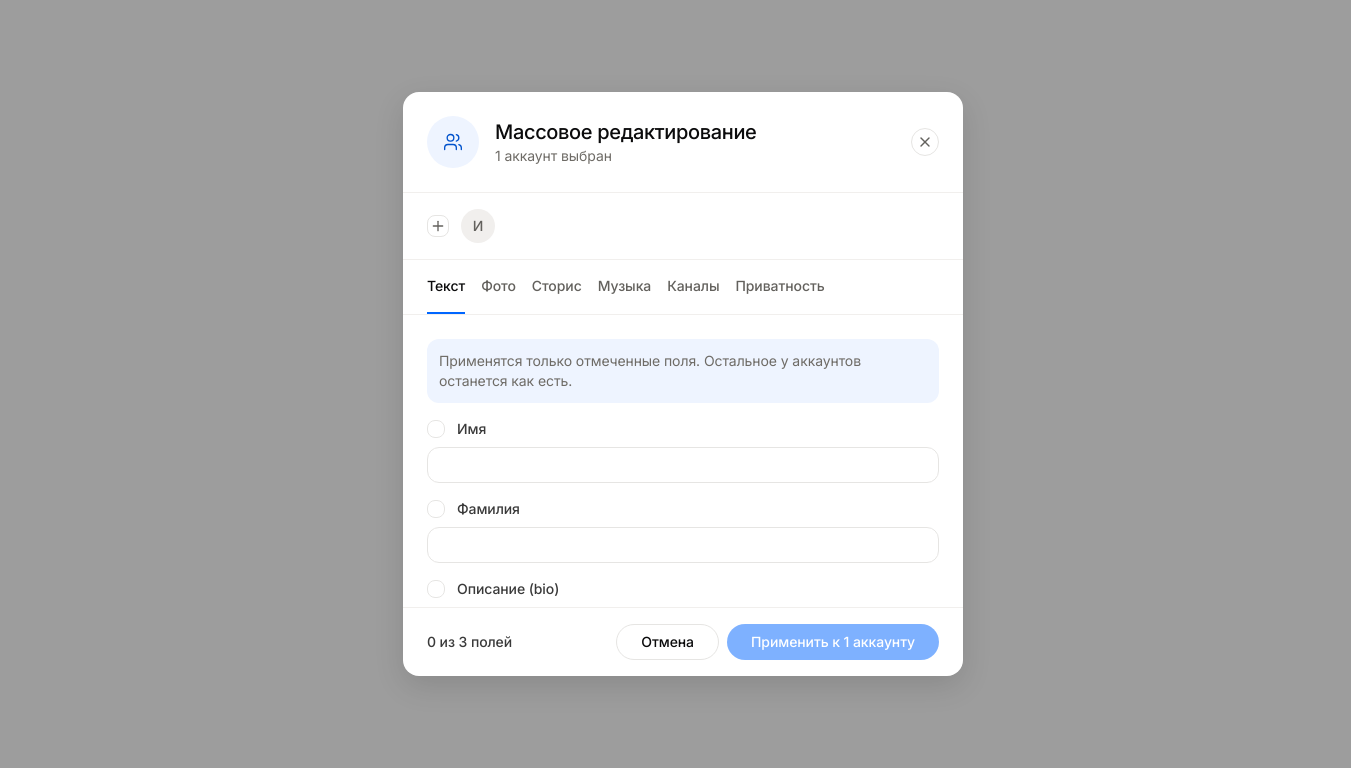
Test: an empty first name blocks the apply, an empty bio does not
Click the checkbox labelled "Имя".
click(436, 429)  # box [427,419,939,439]
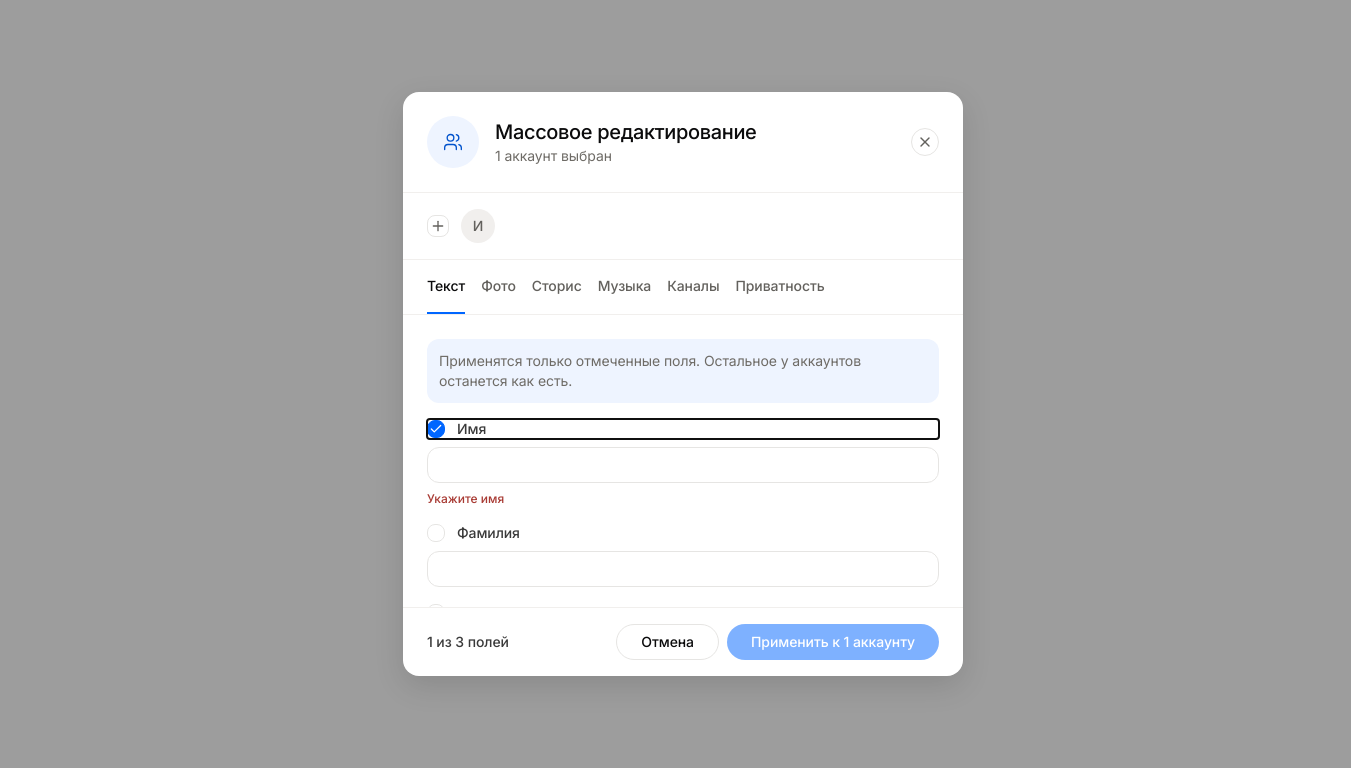
Expected: the button "Применить к 1 аккаунту" is disabled, [727,624,939,660]
Expected: the message reads "Укажите имя", [427,491,504,506]
Click the checkbox labelled "Имя".
click(436, 429)  # box [427,419,939,439]
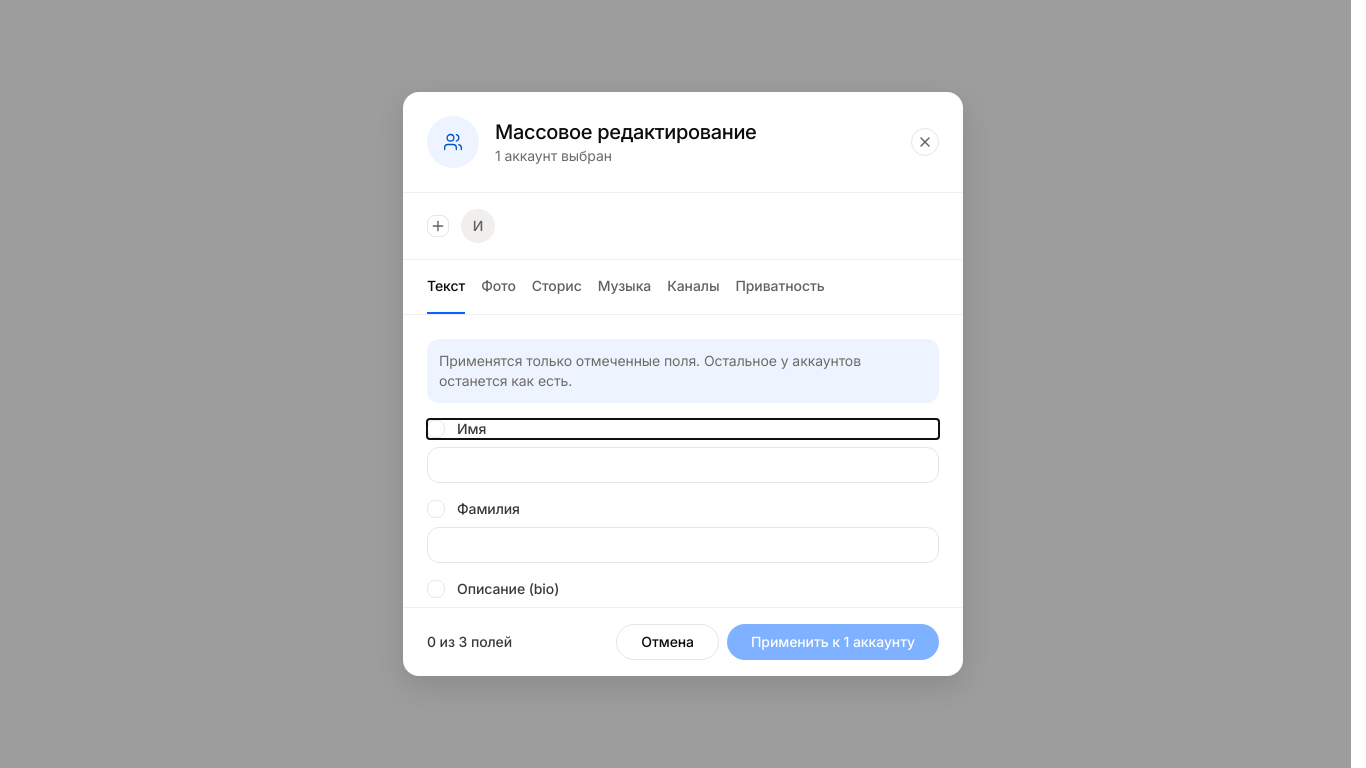
Click the checkbox labelled "Описание (bio)".
click(508, 589)  # box [427,579,939,599]
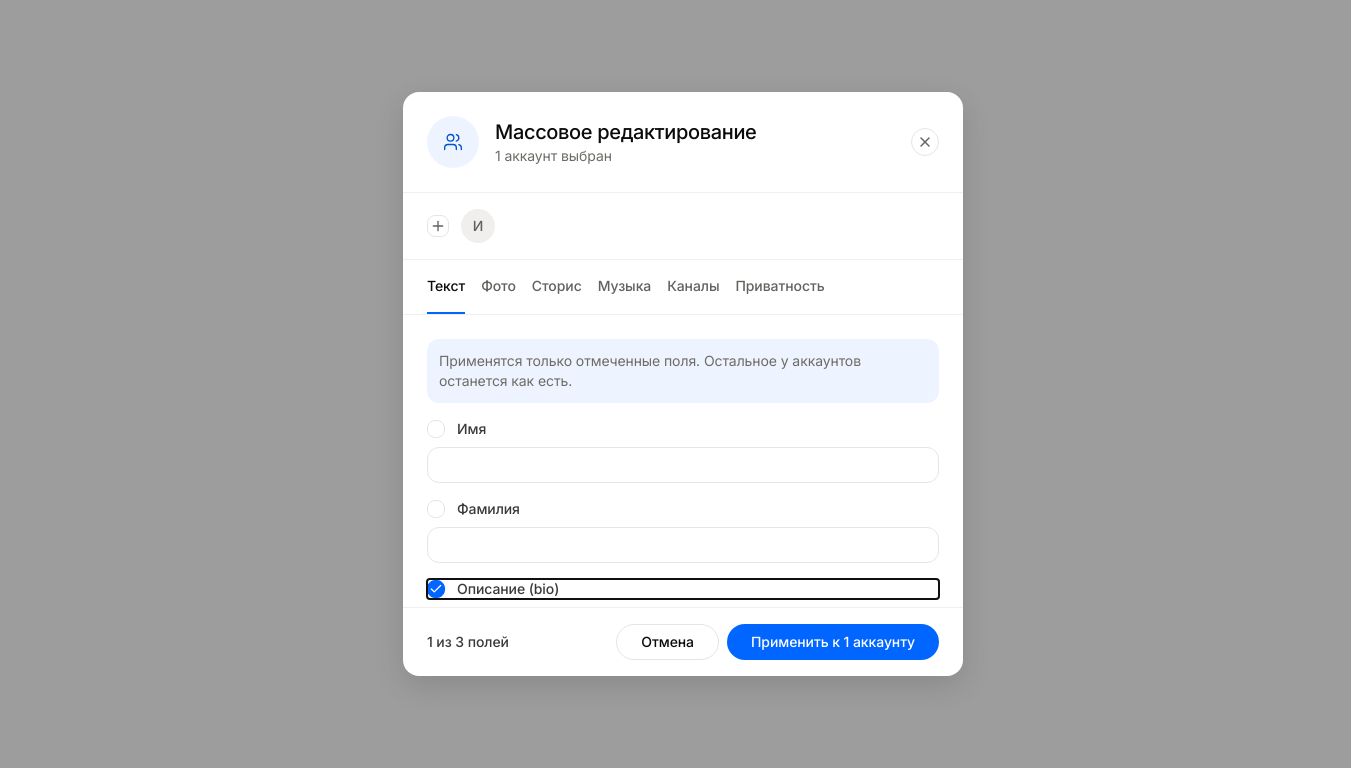
Expected: the button "Применить к 1 аккаунту" is enabled, [727,624,939,660]
